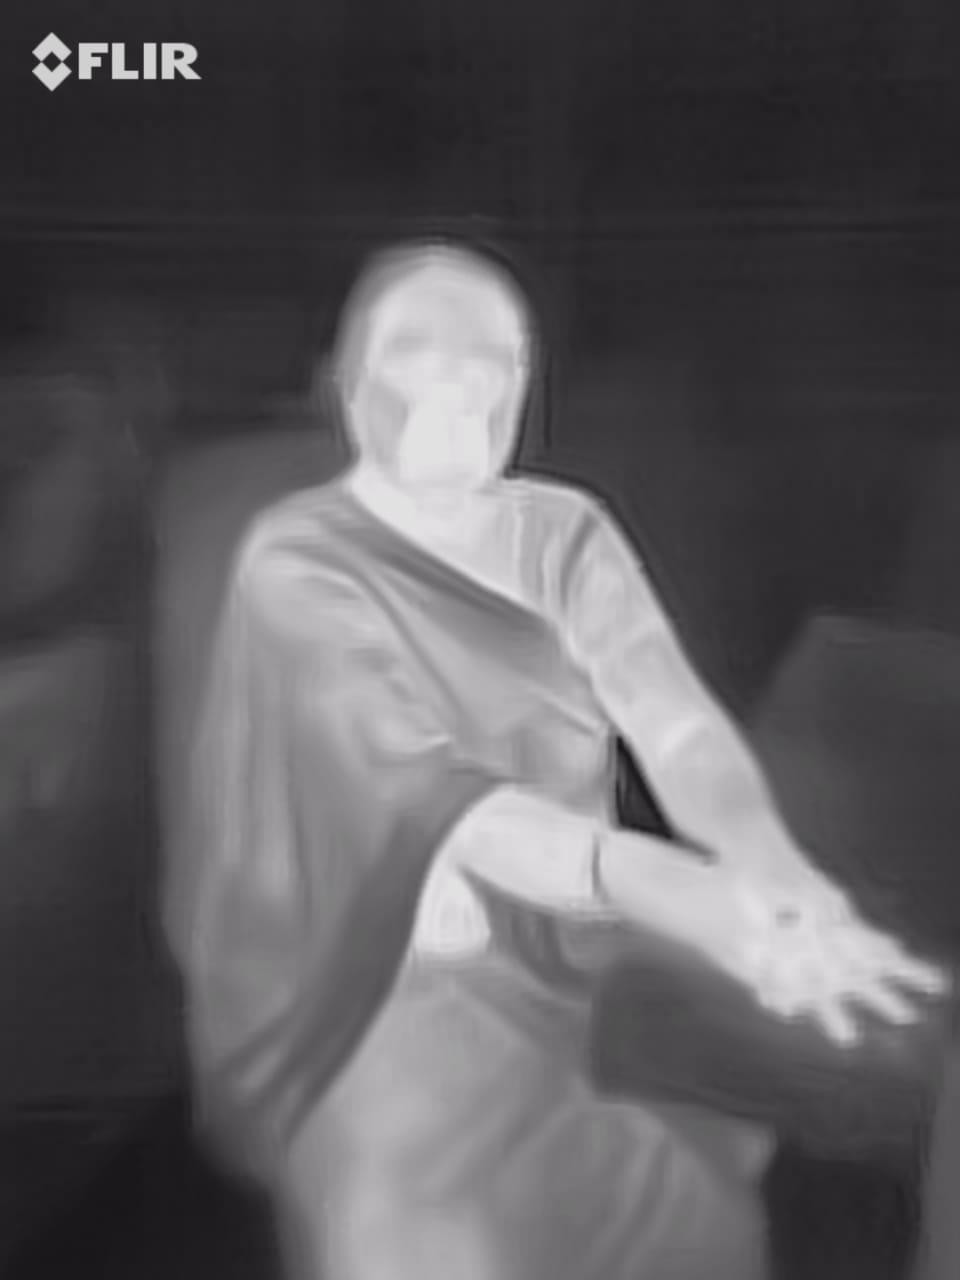head: (326, 235, 548, 519)
